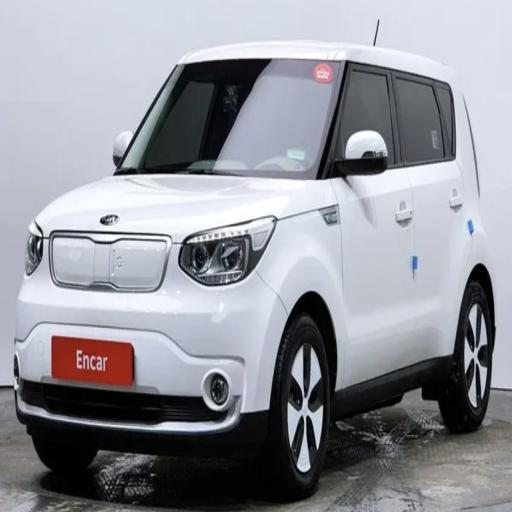normal: (18, 20, 510, 462)
